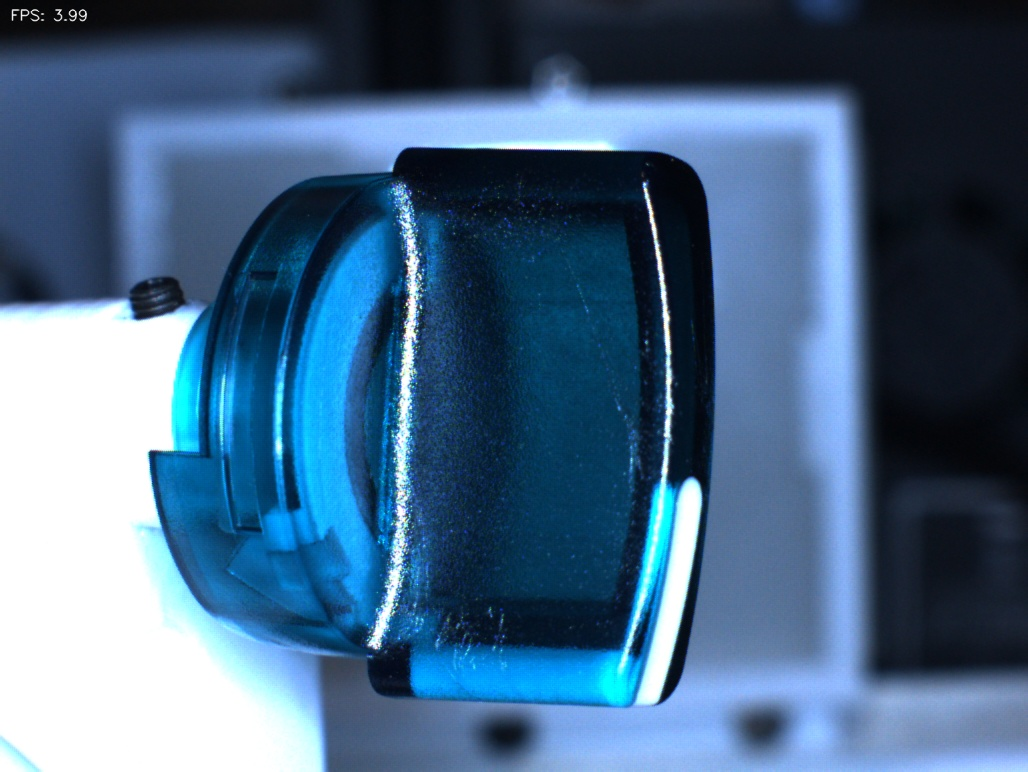Givrage: (422, 596, 524, 684)
